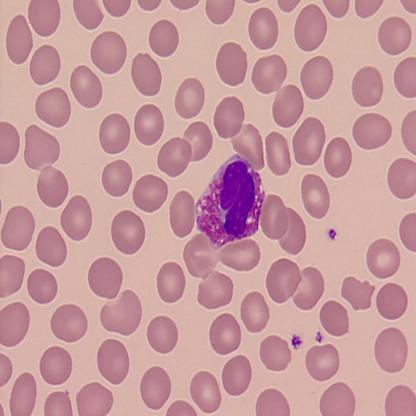Eosinophil: (195, 154, 262, 249)
